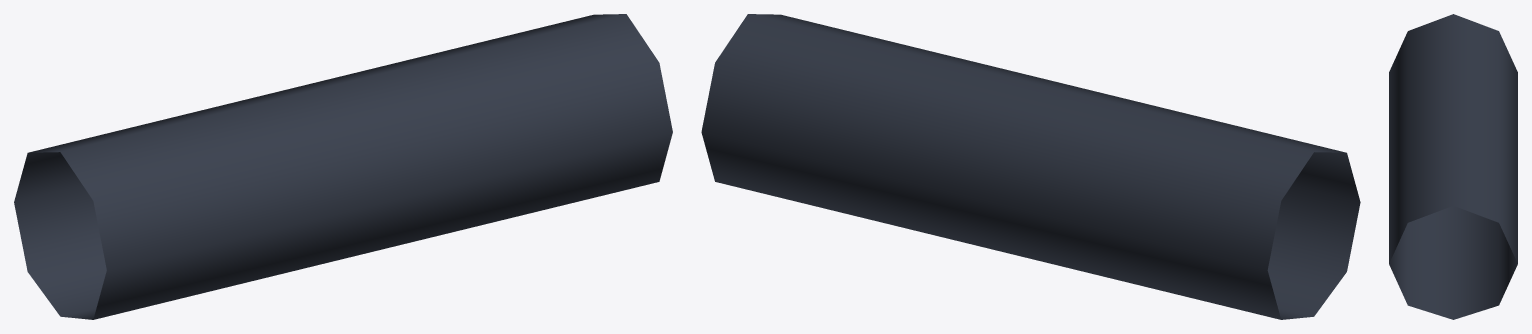
The model's file is Pipe_1_F_1_1.fbx.
3 views of the same model, side by side, from view 1: azimuth 30°, elevation 25°; view 2: azimuth 150°, elevation 25°; view 3: azimuth 270°, elevation 25° (orthographic). The views are drawn at different scales.
Parts seen in each view (by area): view 1: Pipe_1_F_1_1; view 2: Pipe_1_F_1_1; view 3: Pipe_1_F_1_1.
Part boxes in pixels (box(x1,y1,x2,y2)): Pipe_1_F_1_1: box(14, 14, 672, 319); Pipe_1_F_1_1: box(701, 14, 1360, 319); Pipe_1_F_1_1: box(1389, 14, 1517, 319).
Size of the model in its own units: 76.72 by 21.31 by 21.8.
